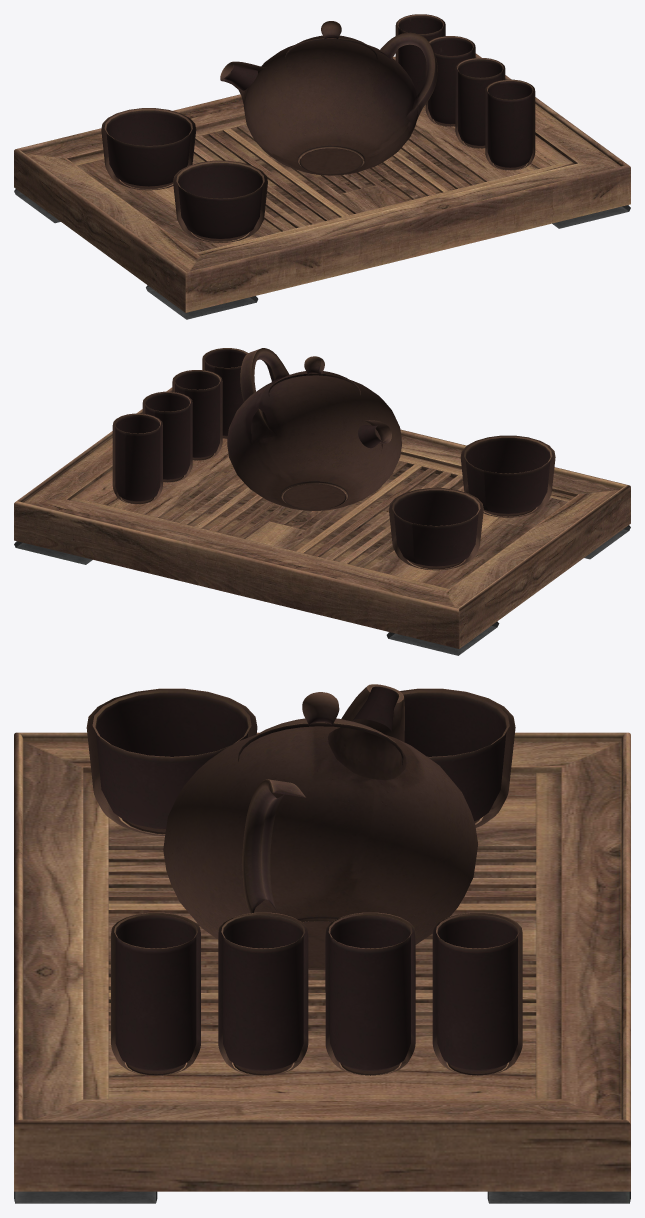
The picture shows the model from 3 angles, top to bottom: view 1: azimuth 30°, elevation 25°; view 2: azimuth 150°, elevation 25°; view 3: azimuth 270°, elevation 25°; orthographic projection. The views are drawn at different scales.
Parts seen in each view (by area): view 1: aef59e13-b3cb-4196-a8ff-41f66681d112, 46e3aee3-0cd0-440f-bb2e-c9237346788e, 95aaaaf4-6e58-45af-bde4-959368ba3498, 4f91b192-ffe9-4dcd-9b50-971eebd19bb2; view 2: aef59e13-b3cb-4196-a8ff-41f66681d112, 46e3aee3-0cd0-440f-bb2e-c9237346788e, 95aaaaf4-6e58-45af-bde4-959368ba3498, 4f91b192-ffe9-4dcd-9b50-971eebd19bb2; view 3: aef59e13-b3cb-4196-a8ff-41f66681d112, 95aaaaf4-6e58-45af-bde4-959368ba3498, 46e3aee3-0cd0-440f-bb2e-c9237346788e, 4f91b192-ffe9-4dcd-9b50-971eebd19bb2.
Boxes of the visible parts, x1,y1,x2,y2 form: aef59e13-b3cb-4196-a8ff-41f66681d112: [14, 53, 630, 312]; 46e3aee3-0cd0-440f-bb2e-c9237346788e: [101, 14, 535, 242]; 95aaaaf4-6e58-45af-bde4-959368ba3498: [104, 14, 533, 238]; 4f91b192-ffe9-4dcd-9b50-971eebd19bb2: [14, 189, 630, 319]; aef59e13-b3cb-4196-a8ff-41f66681d112: [14, 387, 630, 648]; 46e3aee3-0cd0-440f-bb2e-c9237346788e: [112, 348, 555, 570]; 95aaaaf4-6e58-45af-bde4-959368ba3498: [114, 348, 552, 566]; 4f91b192-ffe9-4dcd-9b50-971eebd19bb2: [14, 525, 630, 655]; aef59e13-b3cb-4196-a8ff-41f66681d112: [14, 732, 630, 1191]; 95aaaaf4-6e58-45af-bde4-959368ba3498: [92, 690, 519, 1070]; 46e3aee3-0cd0-440f-bb2e-c9237346788e: [86, 684, 522, 1075]; 4f91b192-ffe9-4dcd-9b50-971eebd19bb2: [14, 1191, 630, 1203].
Bounding box in the file's own units: 200 × 76.92 × 133.
Materials: 4 (4 with a texture image).
